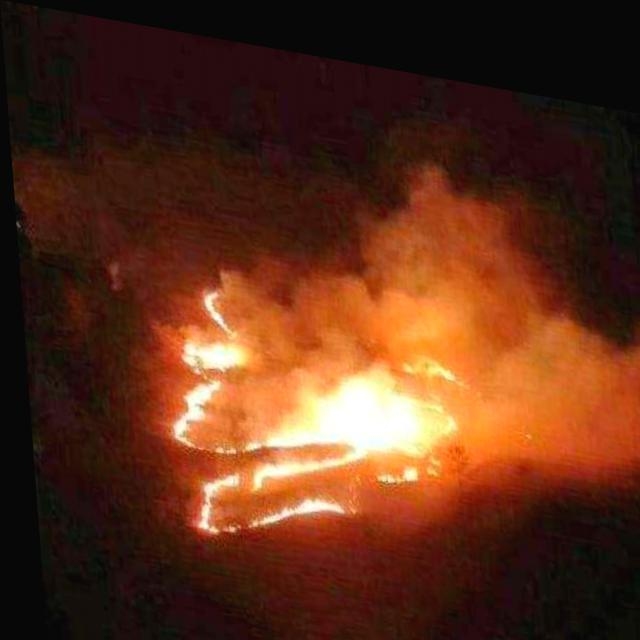Fire: (166, 272, 472, 558)
